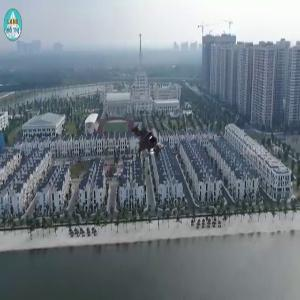drone: (120, 112, 179, 171)
